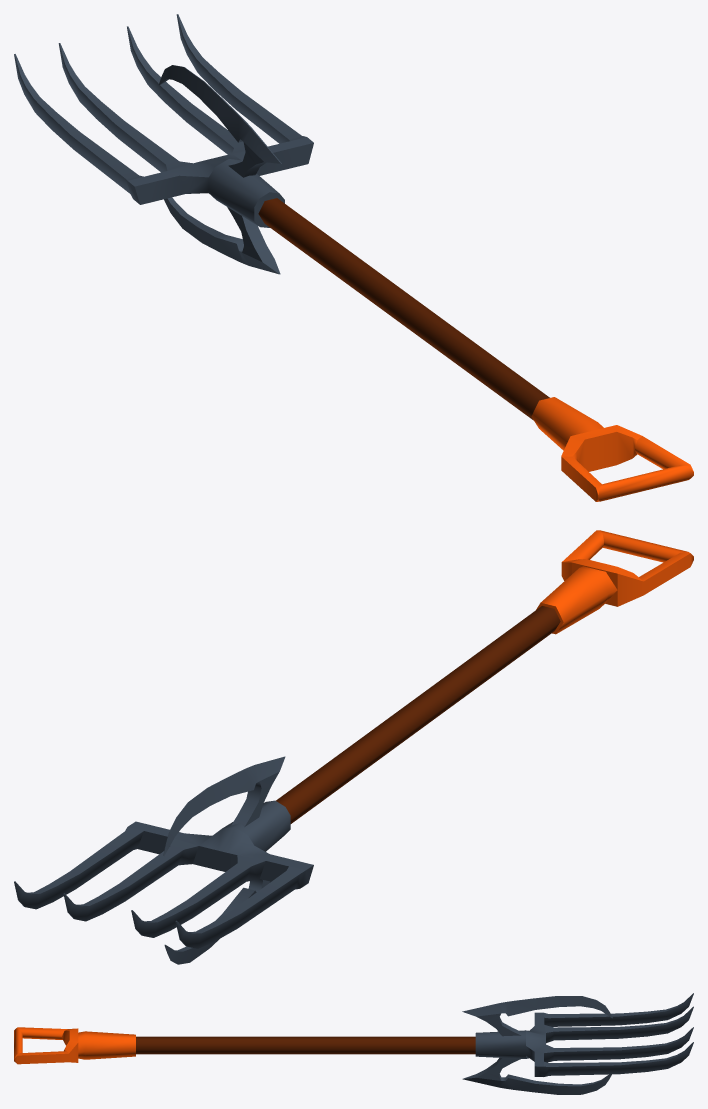
The model's file is Garden Digging Fork.FBX.
3 views of the same model, one above another, from view 1: azimuth 30°, elevation 25°; view 2: azimuth 150°, elevation 25°; view 3: azimuth 270°, elevation 25° (orthographic). The views are drawn at different scales.
Parts seen in each view (by area): view 1: Object001; view 2: Object001; view 3: Object001.
Part boxes in pixels (x1,y1,x2,y2): Object001: [14, 14, 693, 501]; Object001: [14, 530, 693, 964]; Object001: [14, 993, 693, 1094].
Bounding box in the file's own units: 30.77 × 26.33 × 163.
